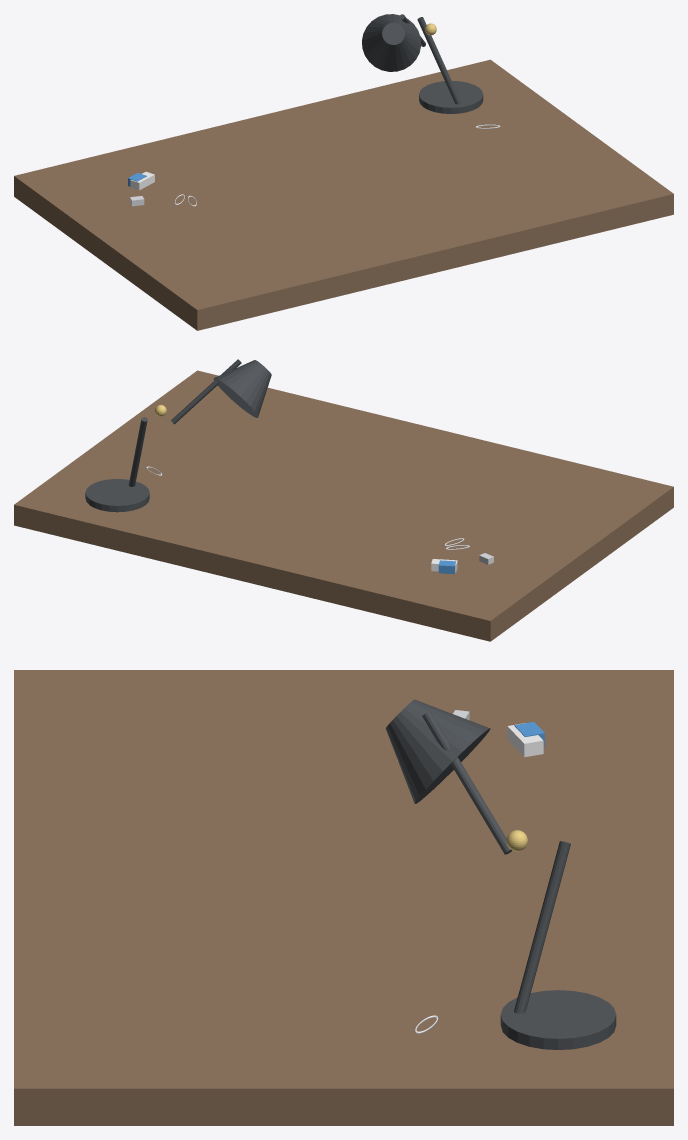
The model's file is desk_scene.glb.
The picture shows the model from 3 angles, top to bottom: view 1: azimuth 30°, elevation 25°; view 2: azimuth 150°, elevation 25°; view 3: azimuth 270°, elevation 25°; orthographic projection. The views are drawn at different scales.
Parts seen in each view (by area): view 1: Desk_Surface, Lamp_Shade, Lamp_Base, Lamp_ArmLower; view 2: Desk_Surface, Lamp_Shade, Lamp_Base, Lamp_ArmLower, Lamp_ArmUpper; view 3: Desk_Surface, Lamp_Base, Lamp_Shade, Lamp_ArmLower, Lamp_ArmUpper, Desk_Eraser.
Part boxes in pixels (x1,y1,x2,y2): Desk_Surface: (14,59,673,330); Lamp_Shade: (362,14,421,71); Lamp_Base: (419,81,483,113); Lamp_ArmLower: (417,17,461,104); Desk_Surface: (14,370,673,641); Lamp_Shade: (213,360,271,417); Lamp_Base: (85,479,149,512); Lamp_ArmLower: (128,417,147,486); Lamp_ArmUpper: (171,359,241,424); Desk_Surface: (14,670,673,1125); Lamp_Base: (500,990,616,1049); Lamp_Shade: (385,699,490,803); Lamp_ArmLower: (514,841,570,1013); Lamp_ArmUpper: (422,711,512,854); Desk_Eraser: (507,723,543,757).
Size of the model in its own units: 1.2 by 0.3708 by 0.8.
